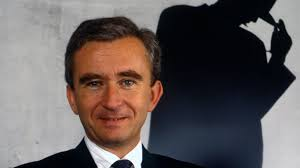No-Glasses: (72, 73, 143, 92)
